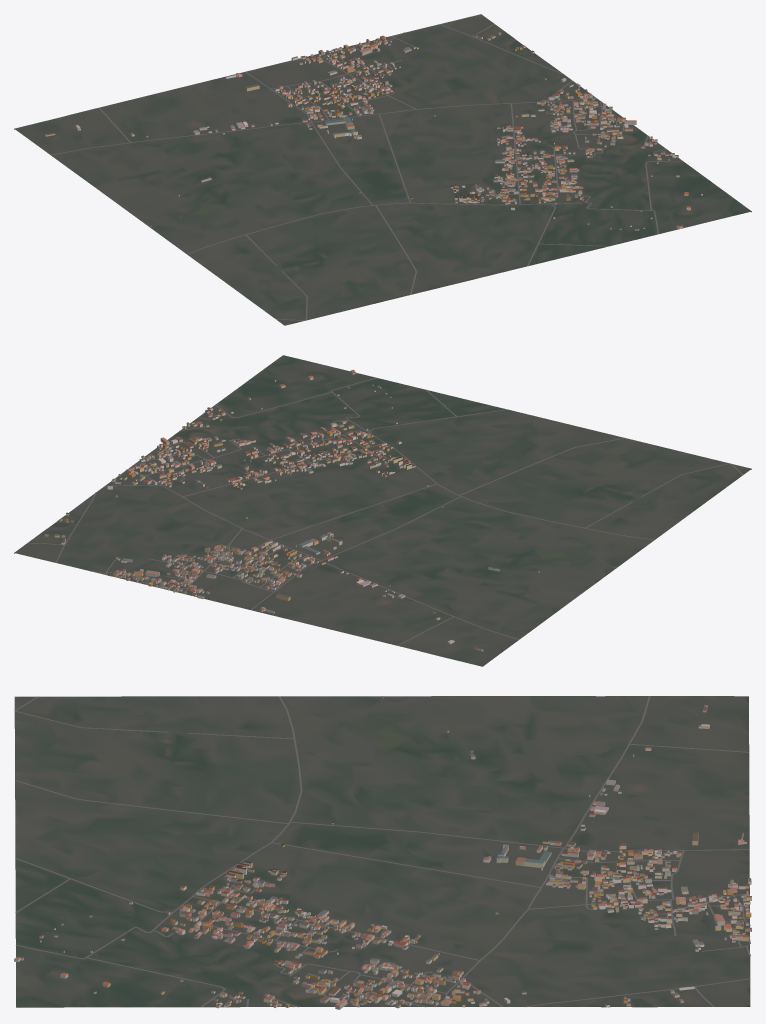
3 views of the same model, one above another, from view 1: azimuth 30°, elevation 25°; view 2: azimuth 150°, elevation 25°; view 3: azimuth 270°, elevation 25° (orthographic). The views are drawn at different scales.
Visible parts, largest first — view 1: ground, buildings, roads; view 2: ground, buildings, roads; view 3: ground, buildings, roads.
Part boxes in pixels (left/top/right/bottom): ground: left=14, top=14, right=751, bottom=325; buildings: left=45, top=32, right=702, bottom=230; roads: left=51, top=24, right=683, bottom=320; ground: left=14, top=355, right=751, bottom=666; buildings: left=44, top=369, right=539, bottom=651; roads: left=27, top=377, right=743, bottom=645; ground: left=14, top=696, right=750, bottom=1007; buildings: left=14, top=705, right=751, bottom=1009; roads: left=14, top=696, right=750, bottom=1007.
Bounding box in the file's own units: 1417 × 15.73 × 1409.
